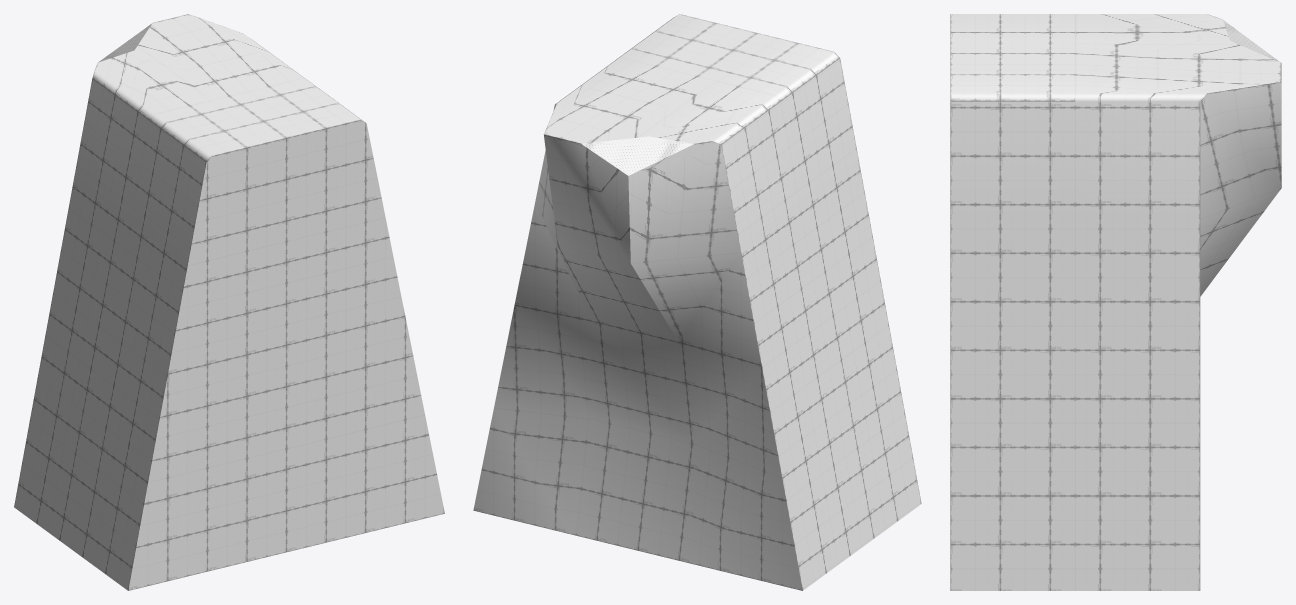
Rendered from SM_Caillou.fbx.
3 renders of one model, left to right at view 1: azimuth 30°, elevation 25°; view 2: azimuth 150°, elevation 25°; view 3: azimuth 270°, elevation 25°, orthographic. The views are drawn at different scales.
Parts seen in each view (by area): view 1: Cube__70__polySurface2; view 2: Cube__70__polySurface2; view 3: Cube__70__polySurface2.
Boxes of the visible parts, <box> form: Cube__70__polySurface2: <box>14,14,444,590</box>; Cube__70__polySurface2: <box>473,14,921,590</box>; Cube__70__polySurface2: <box>950,14,1281,590</box>.
Size of the model in its own units: 8 by 10 by 6.63.
